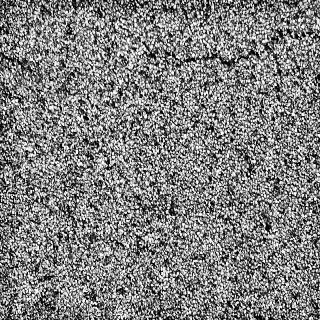crack: (0, 22, 320, 94)
